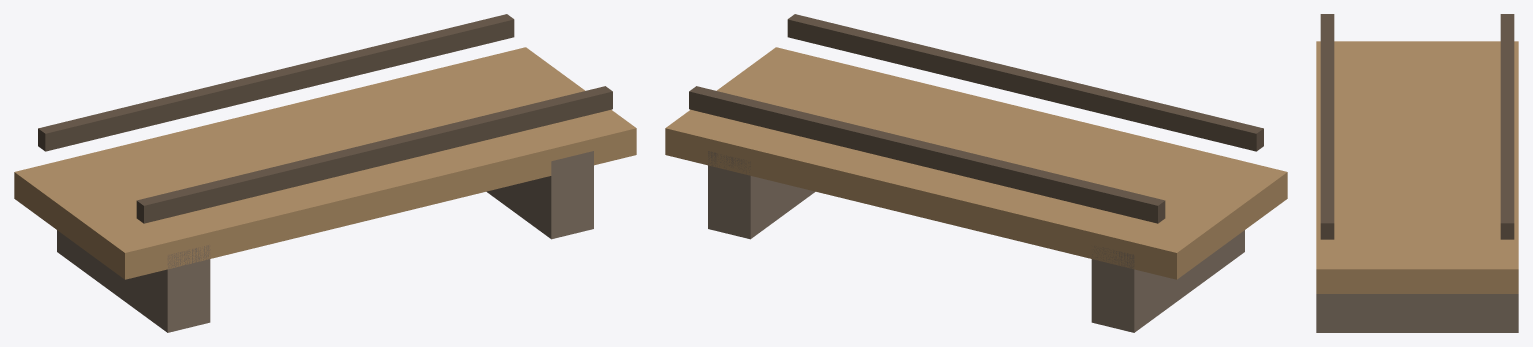
The model's file is bridge.glb.
3 views of the same model, side by side, from view 1: azimuth 30°, elevation 25°; view 2: azimuth 150°, elevation 25°; view 3: azimuth 270°, elevation 25° (orthographic). The views are drawn at different scales.
Parts seen in each view (by area): view 1: n1, n4, n5, n2, n3; view 2: n1, n4, n5, n2, n3; view 3: n1, n3, n4, n5.
Part boxes in pixels (<box>): n1: <box>14,47,636,279</box>; n4: <box>38,14,514,151</box>; n5: <box>136,86,612,223</box>; n2: <box>57,230,210,332</box>; n3: <box>486,151,593,239</box>; n1: <box>665,47,1287,279</box>; n4: <box>689,86,1165,223</box>; n5: <box>787,14,1263,151</box>; n2: <box>1091,230,1244,332</box>; n3: <box>708,151,815,239</box>; n1: <box>1316,41,1518,293</box>; n3: <box>1316,294,1518,332</box>; n4: <box>1500,14,1514,239</box>; n5: <box>1320,14,1334,239</box>.
Size of the model in its own units: 2.4 by 0.585 by 0.9.
